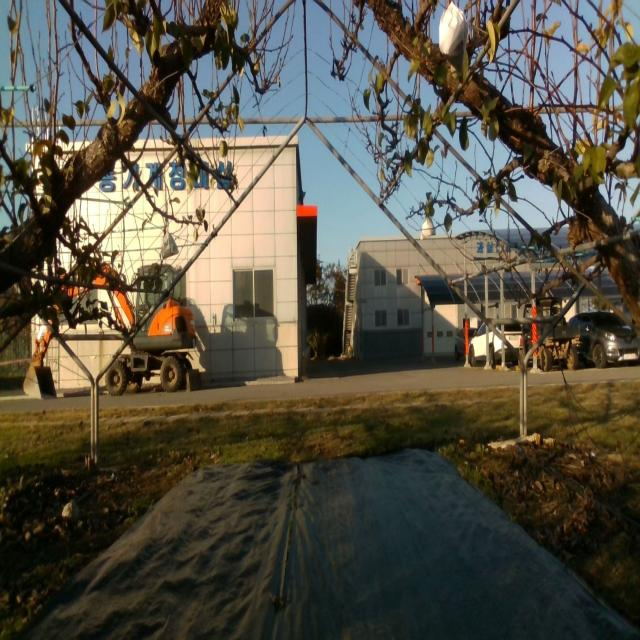pearbags: (437, 0, 469, 74), (160, 232, 179, 262), (420, 216, 436, 242)
